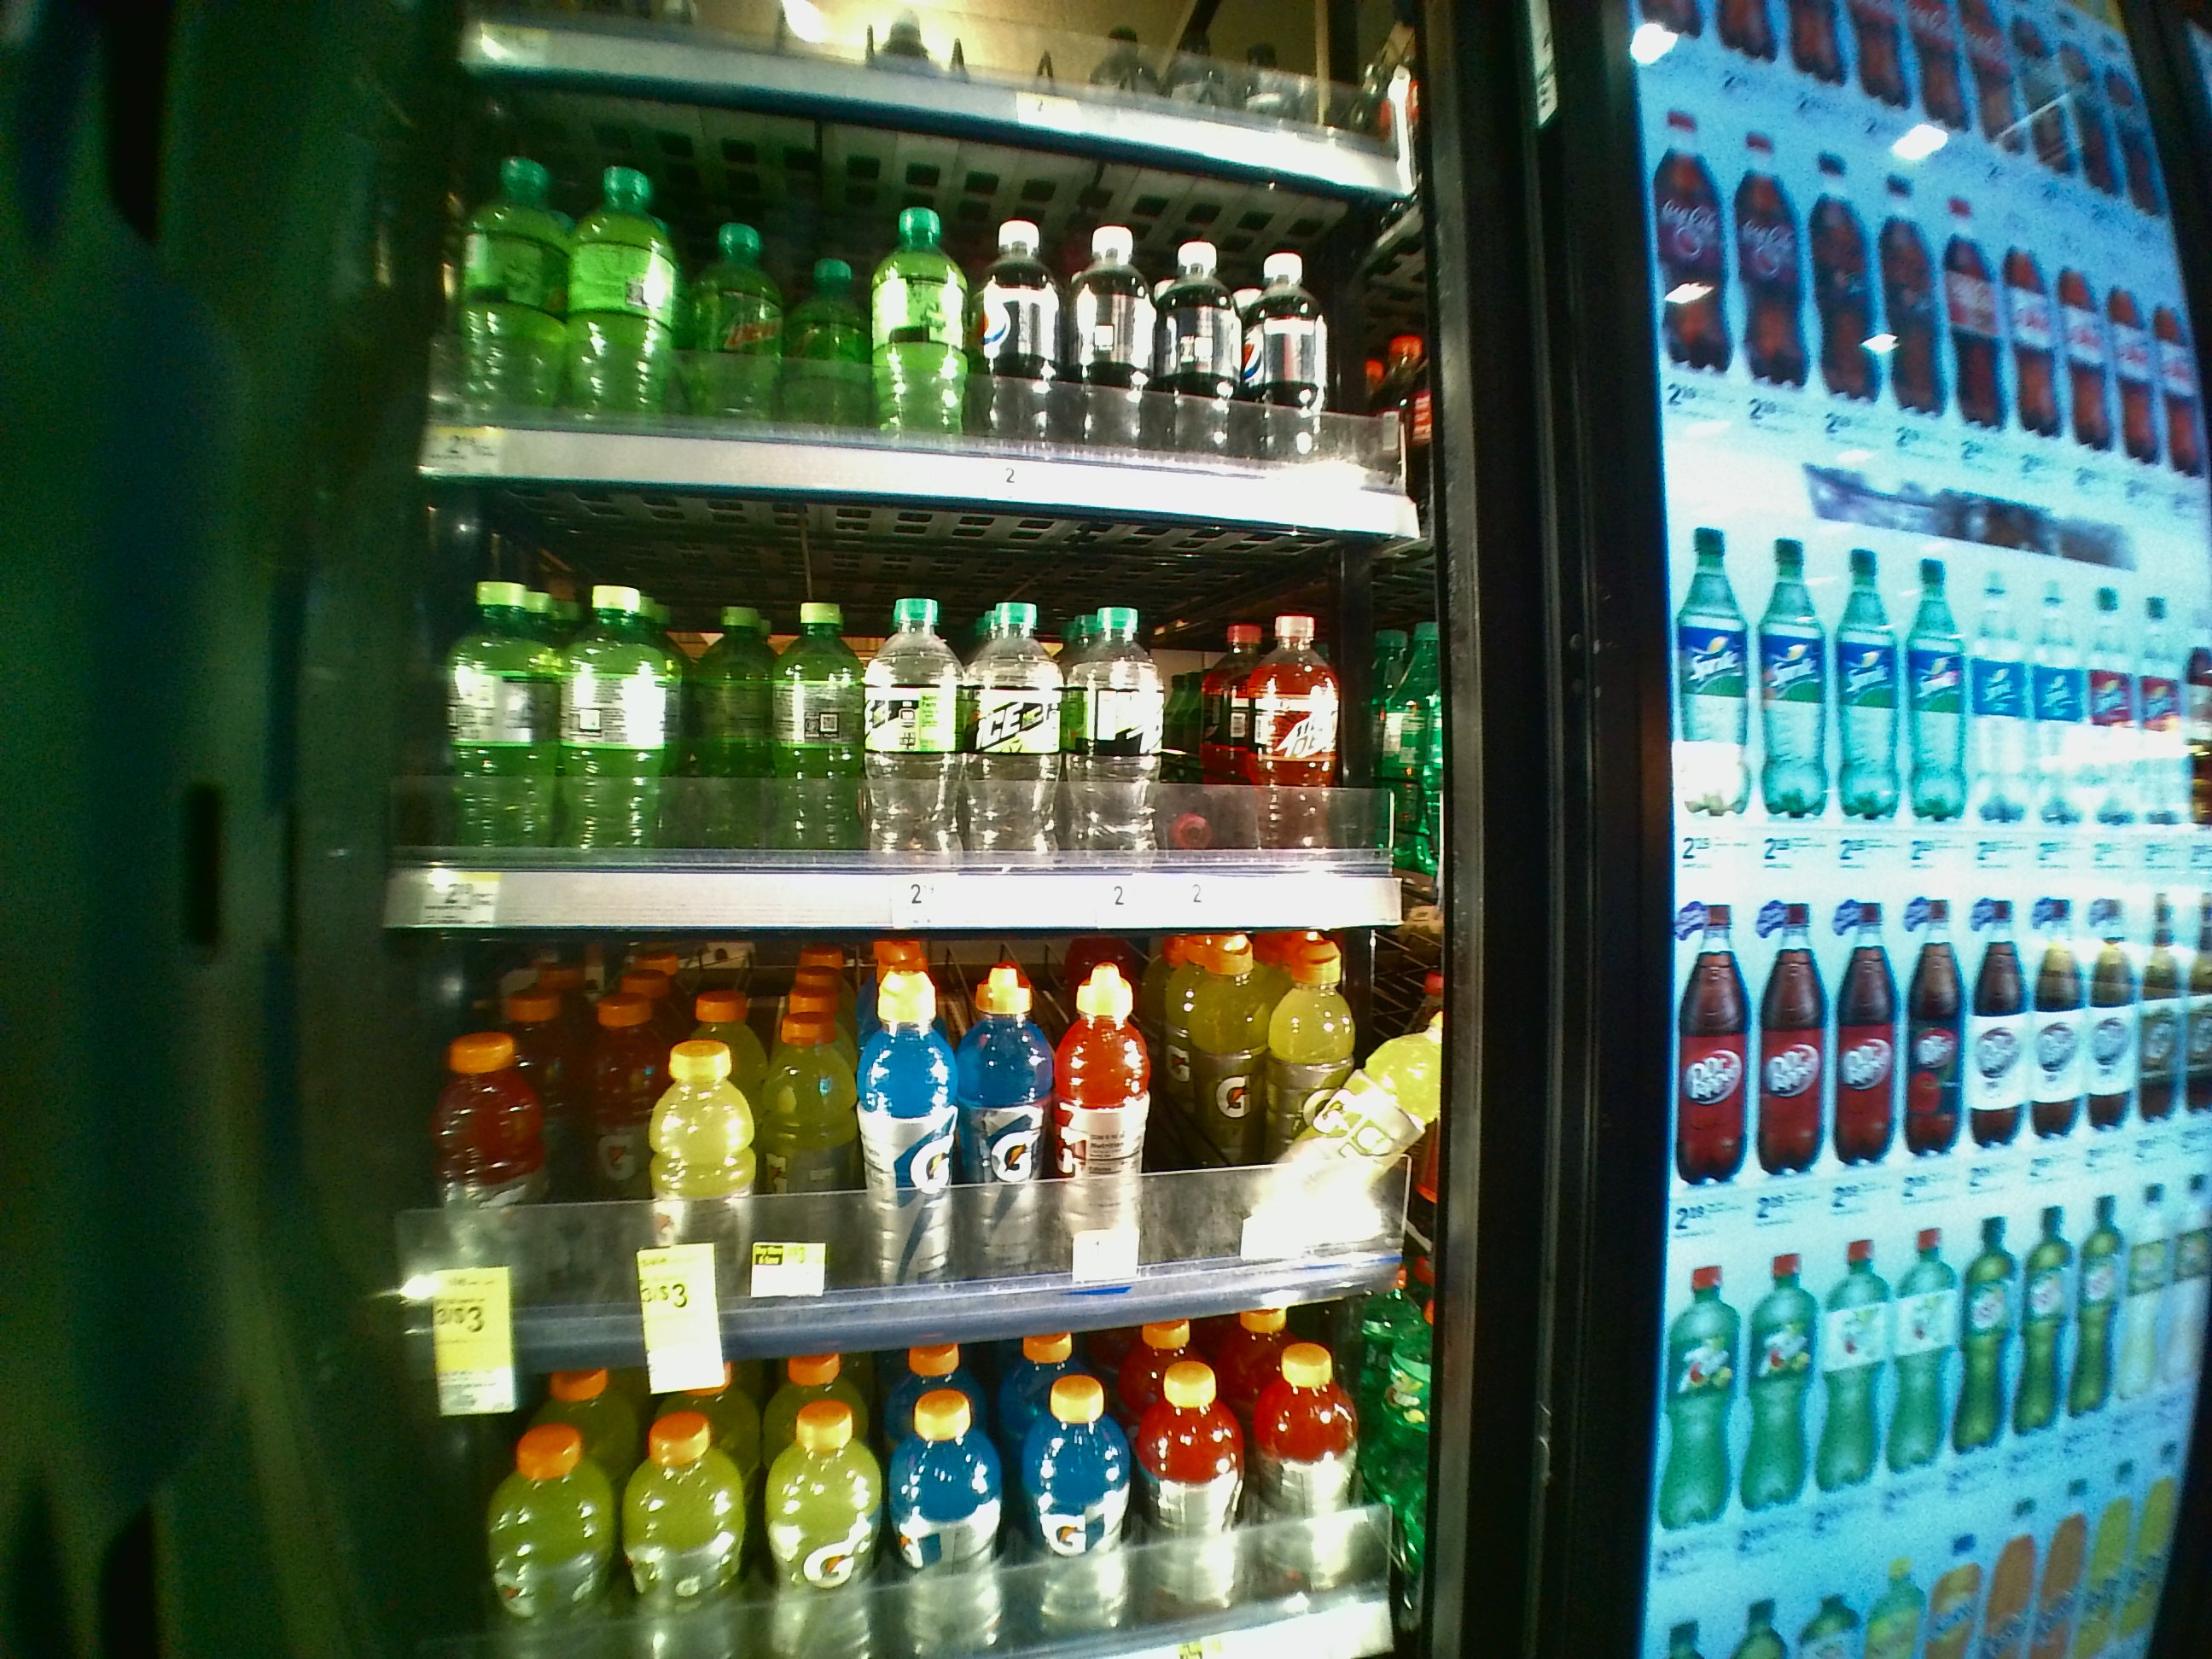shelf: (397, 477, 1453, 931), (366, 946, 1475, 1356)
